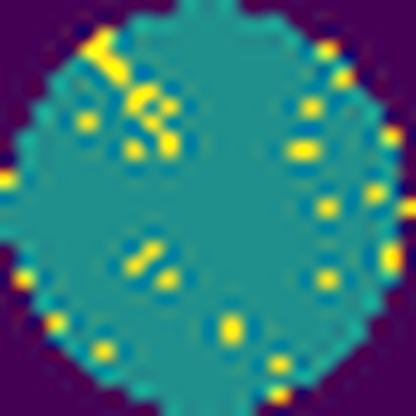Scratch: (75, 22, 190, 166)
